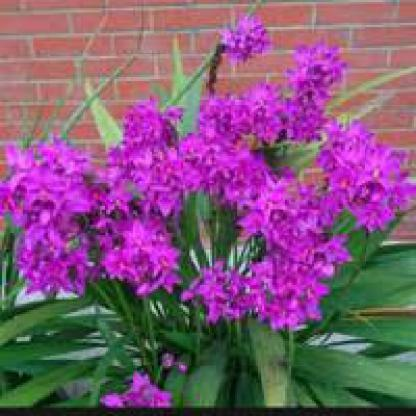ANGGREK: (14, 26, 403, 334)
